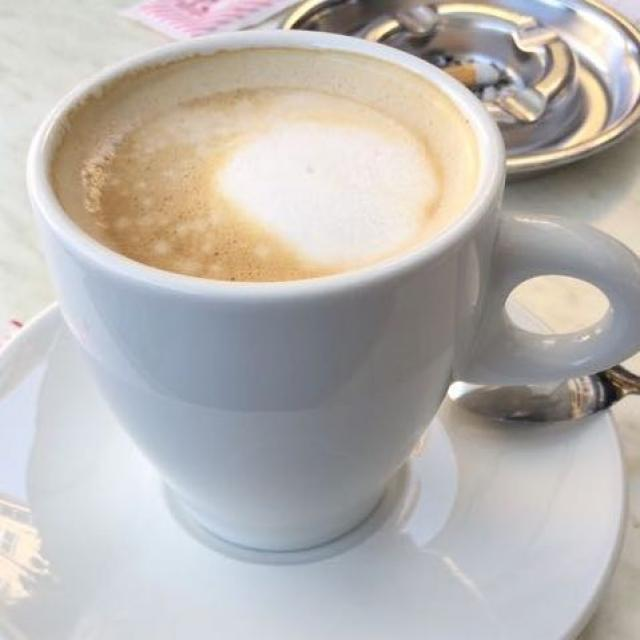cappuccino: (82, 81, 455, 277)
